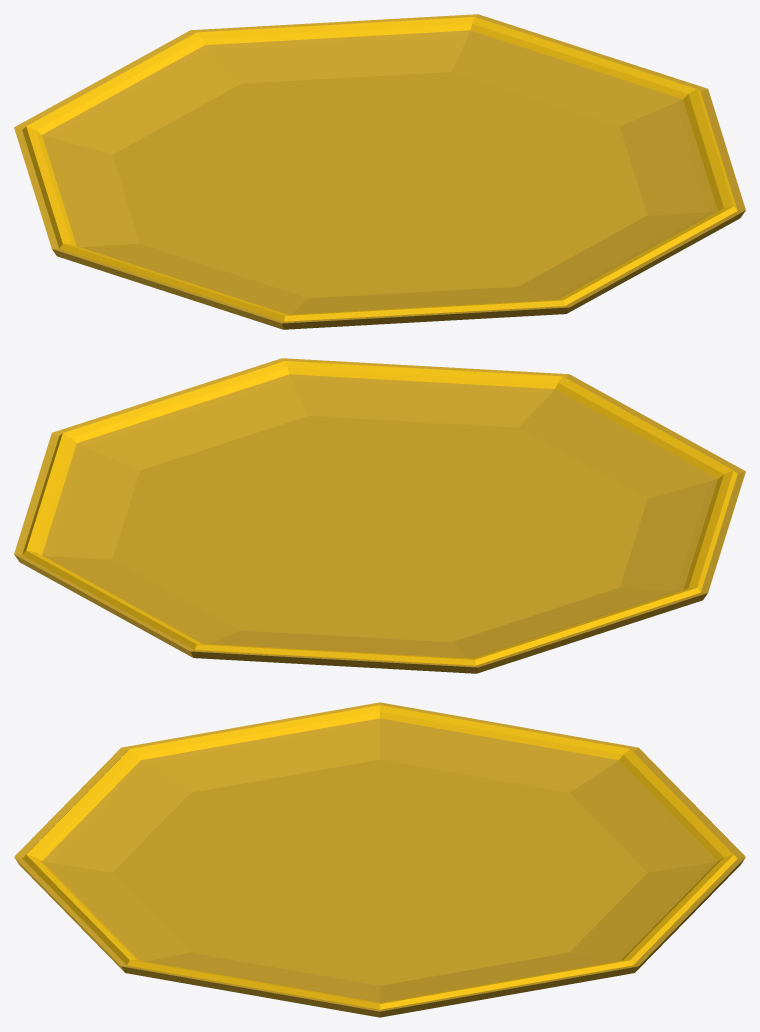
The model's file is GoldenPlate.fbx.
3 renders of one model, top to bottom at view 1: azimuth 30°, elevation 25°; view 2: azimuth 150°, elevation 25°; view 3: azimuth 270°, elevation 25°, orthographic. The views are drawn at different scales.
Visible parts, largest first — view 1: GoldenPlate; view 2: GoldenPlate; view 3: GoldenPlate.
Boxes of the visible parts, left/top/right/bottom form: GoldenPlate: left=14, top=14, right=745, bottom=329; GoldenPlate: left=14, top=358, right=745, bottom=673; GoldenPlate: left=14, top=702, right=745, bottom=1017.
Bounding box in the file's own units: 30.72 × 2.29 × 30.72.
Materials: 1 (1 with a texture image).
